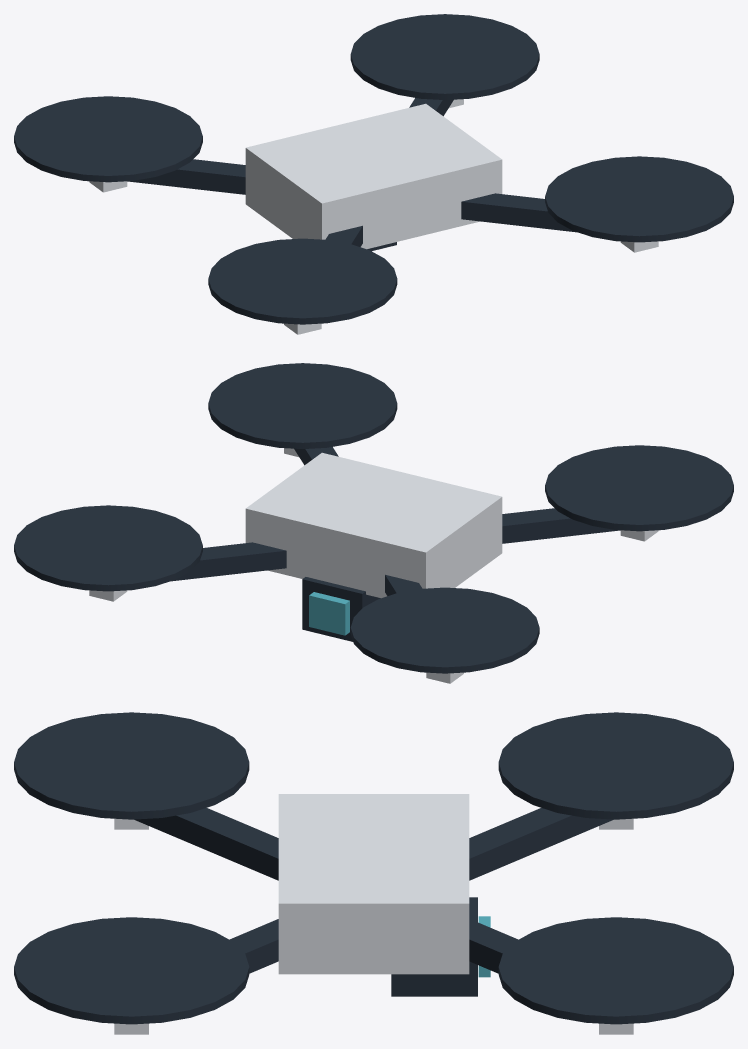
The model's file is drone.glb.
3 renders of one model, top to bottom at view 1: azimuth 30°, elevation 25°; view 2: azimuth 150°, elevation 25°; view 3: azimuth 270°, elevation 25°, orthographic. The views are drawn at different scales.
Parts seen in each view (by area): view 1: P15 Survey Quadrotor; view 2: P15 Survey Quadrotor; view 3: P15 Survey Quadrotor.
Boxes of the visible parts, left/top/right/bottom form: P15 Survey Quadrotor: left=14, top=14, right=733, bottom=334; P15 Survey Quadrotor: left=14, top=363, right=733, bottom=683; P15 Survey Quadrotor: left=14, top=712, right=733, bottom=1034.
Size of the model in its own units: 4.16 by 0.825 by 4.16.
